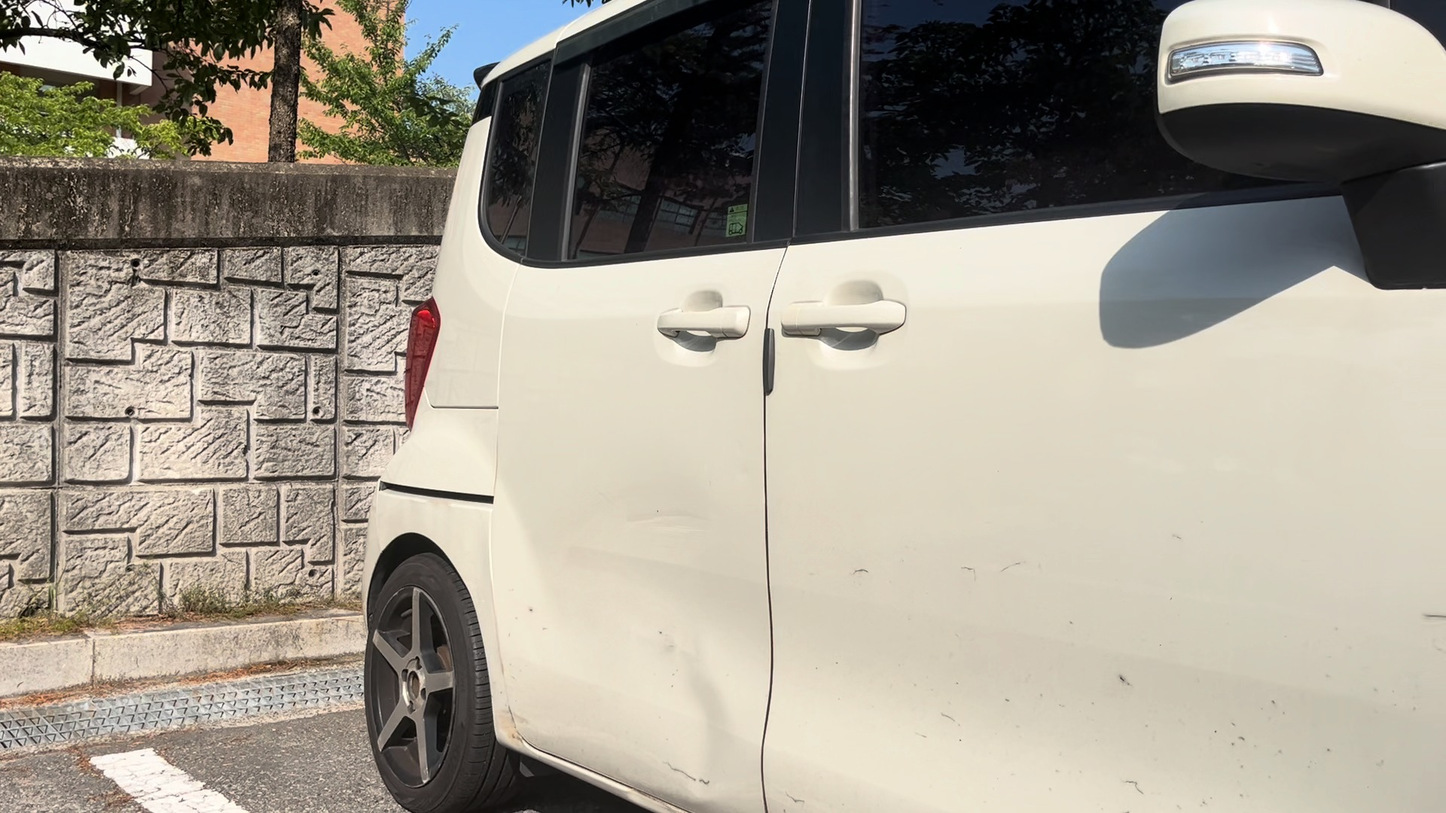door_handle: (779, 301, 906, 327), (657, 305, 750, 333)
tail_light: (403, 300, 441, 437)
